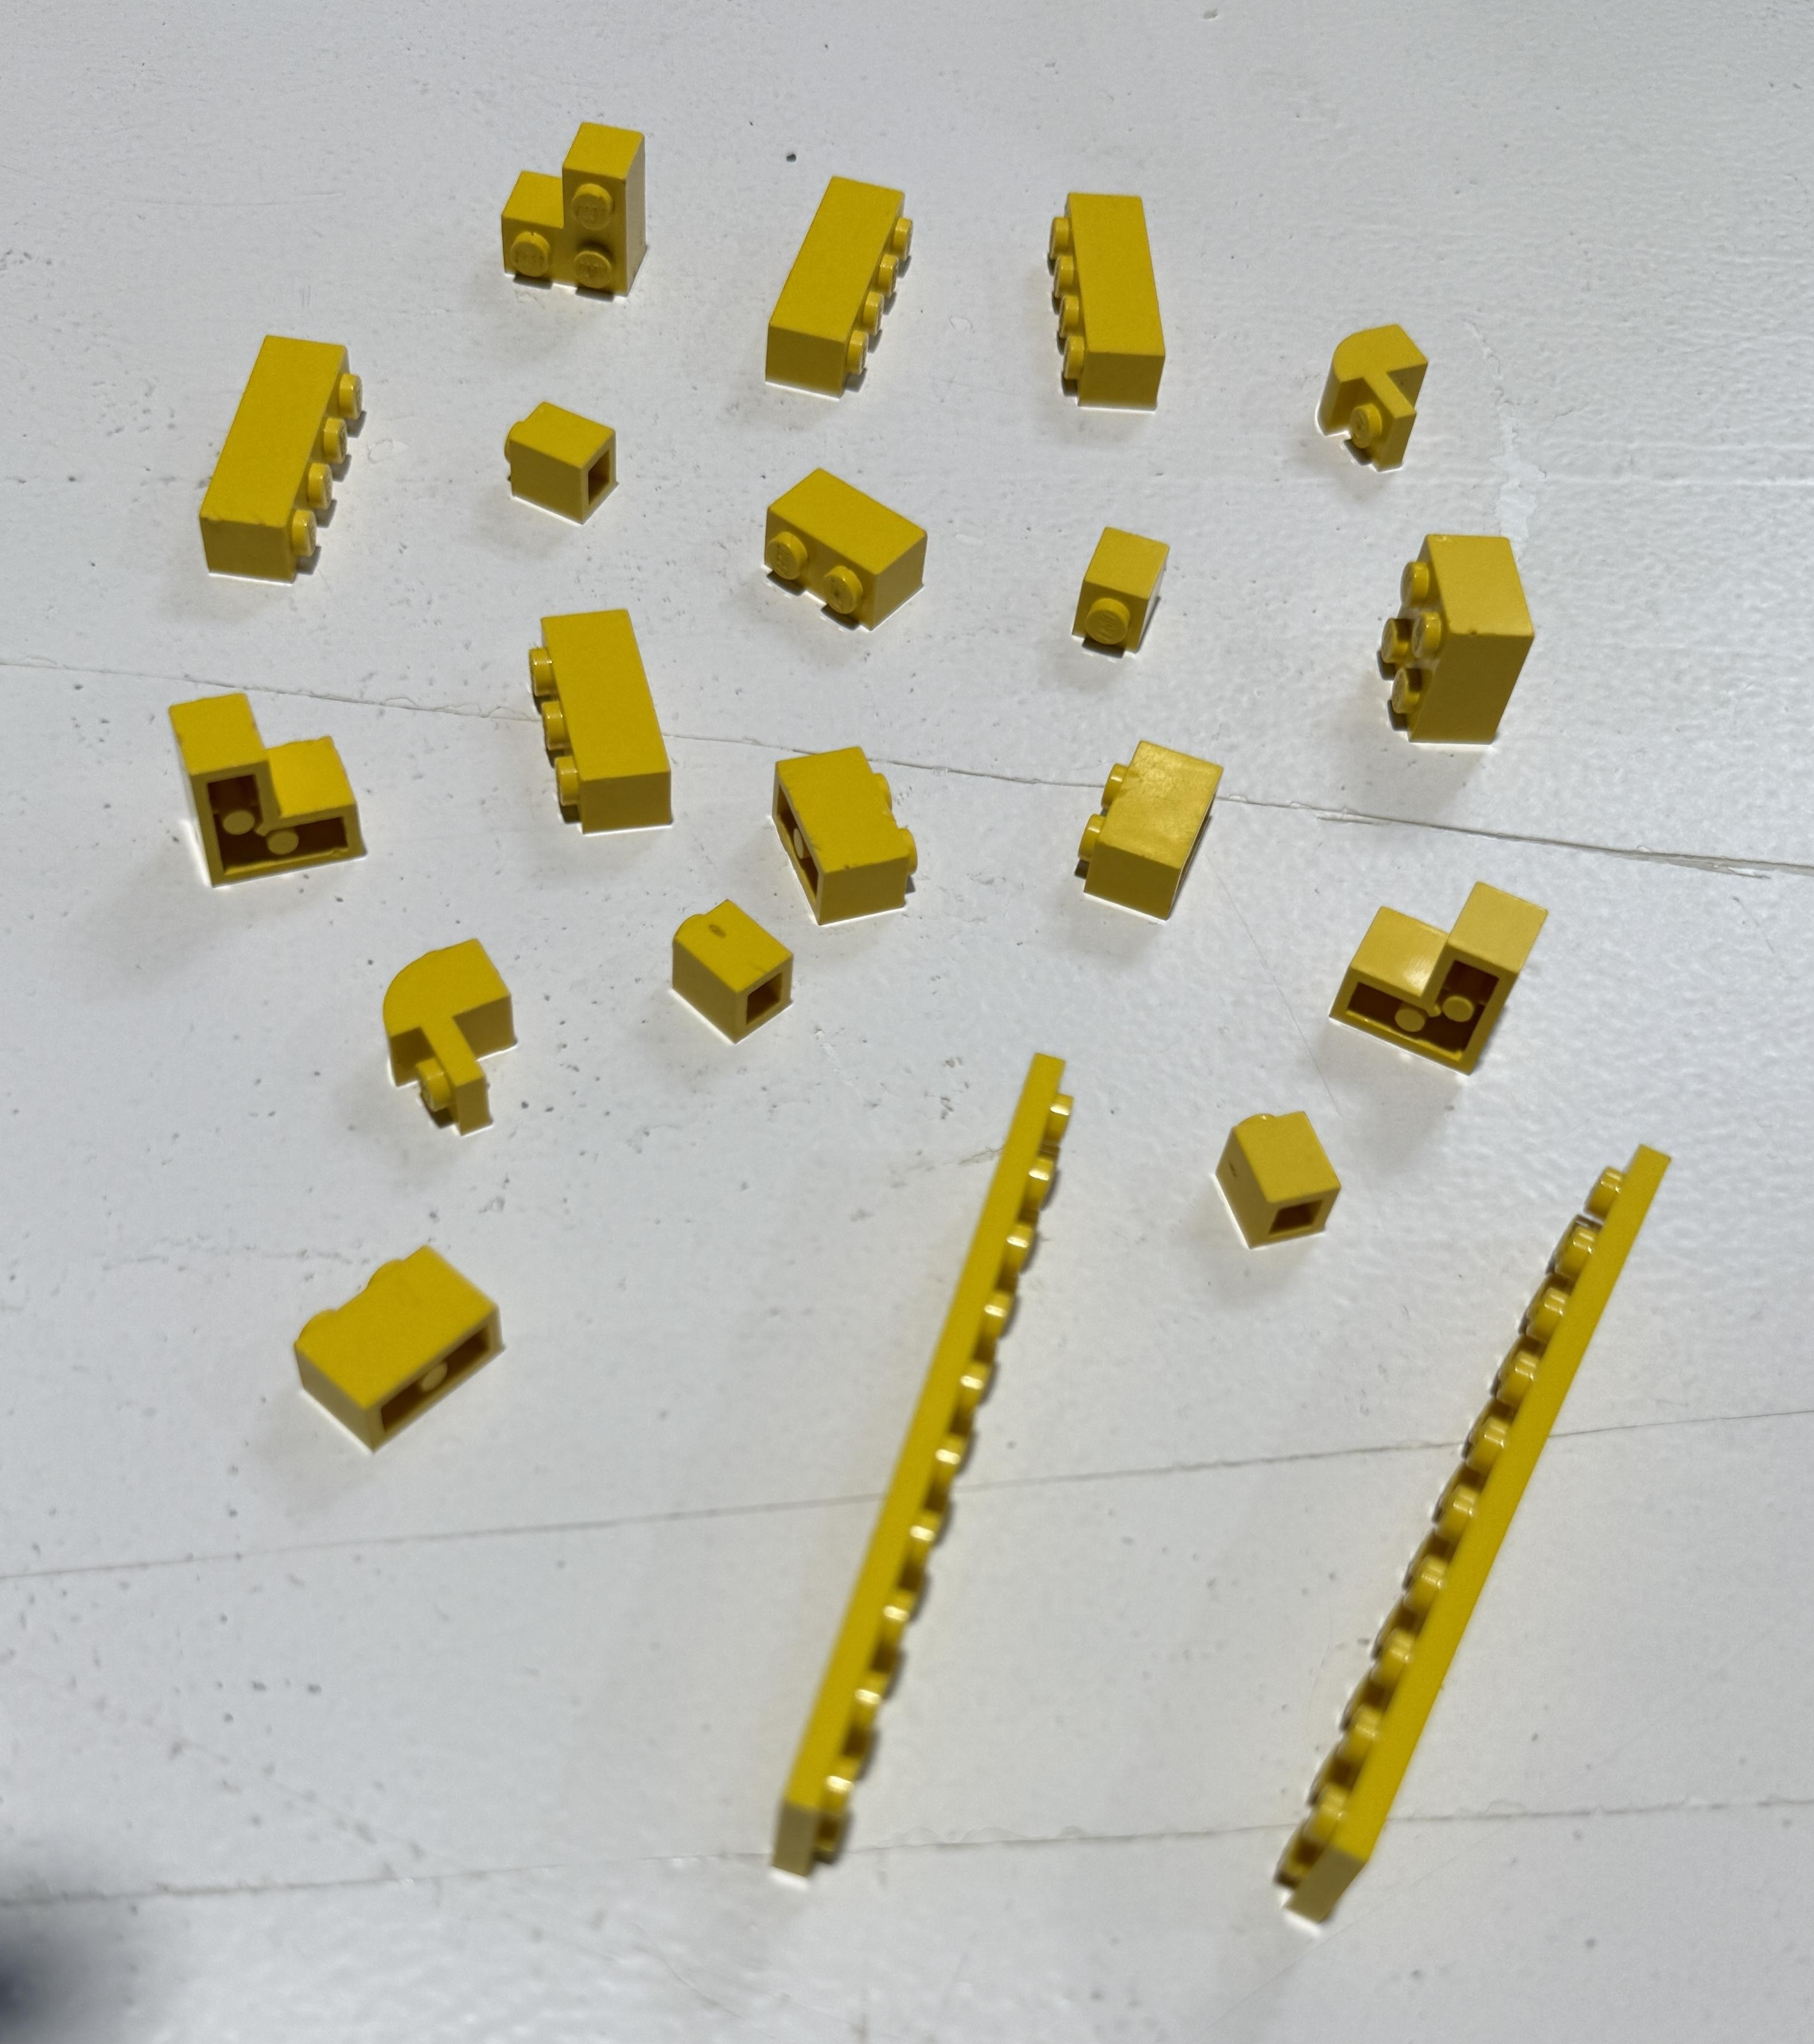brick_1x1: (651, 885, 821, 1070), (1035, 497, 1185, 683), (1199, 1086, 1360, 1259), (468, 389, 627, 541)
brick_1x2: (270, 1200, 559, 1499), (714, 454, 982, 659), (732, 718, 979, 927), (1047, 722, 1264, 939)
brick_1x3: (487, 580, 704, 846)
brick_1x4: (147, 300, 383, 613), (1026, 159, 1192, 443), (751, 159, 928, 415)
brick_2x2: (1362, 494, 1564, 771)
